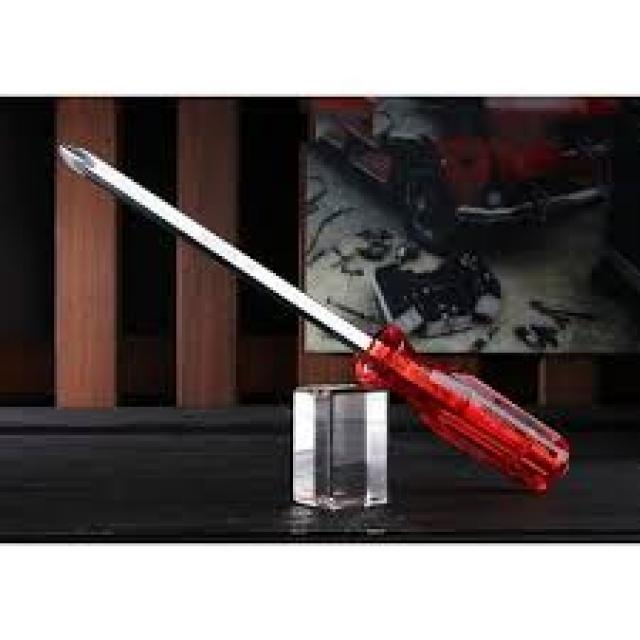screwdriver: (52, 140, 576, 497)
